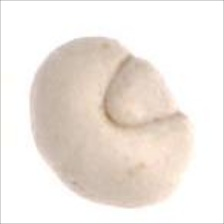L5: (102, 52, 184, 130), (48, 157, 104, 207)
L6: (25, 34, 199, 214)
